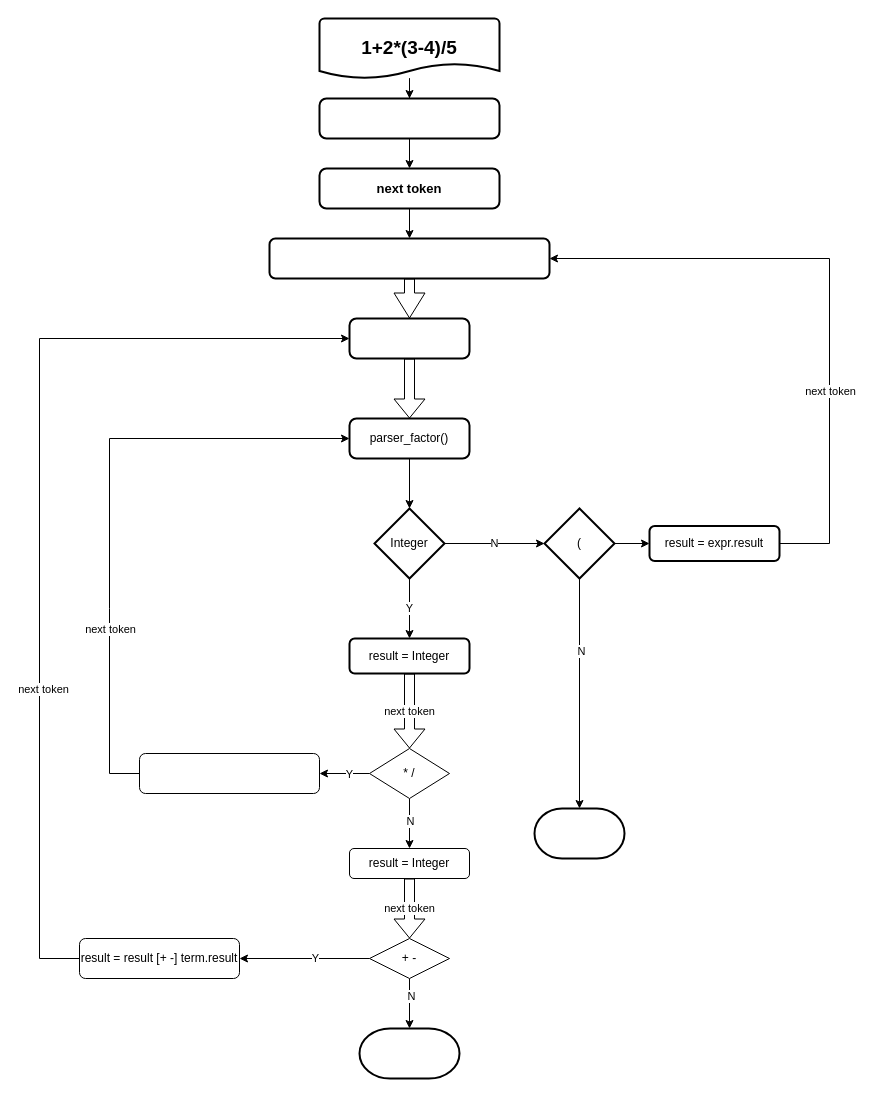
Some shapes in this 872 by 1096 pixel diagram are drawn without their labels. The shapes that lost their labels are listed below. From the top down, each one's box as (x1, y1, x2, y2) in pixels, then its label:
(318, 97, 500, 139): tokens=[1,+,2,*,(,3,-,4,),/,5]
(268, 237, 550, 279): parser_expr(token)
(348, 317, 470, 359): parser_term()
(138, 752, 320, 794): result = result [* /] factor.result
(533, 807, 625, 859): return None
(358, 1027, 460, 1079): return result
